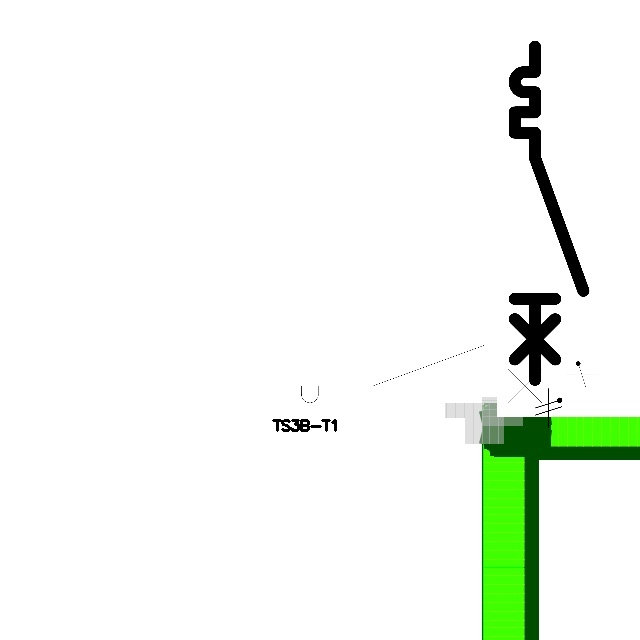interruptor_termomagnetico: (506, 38, 592, 389), (273, 338, 566, 410)
